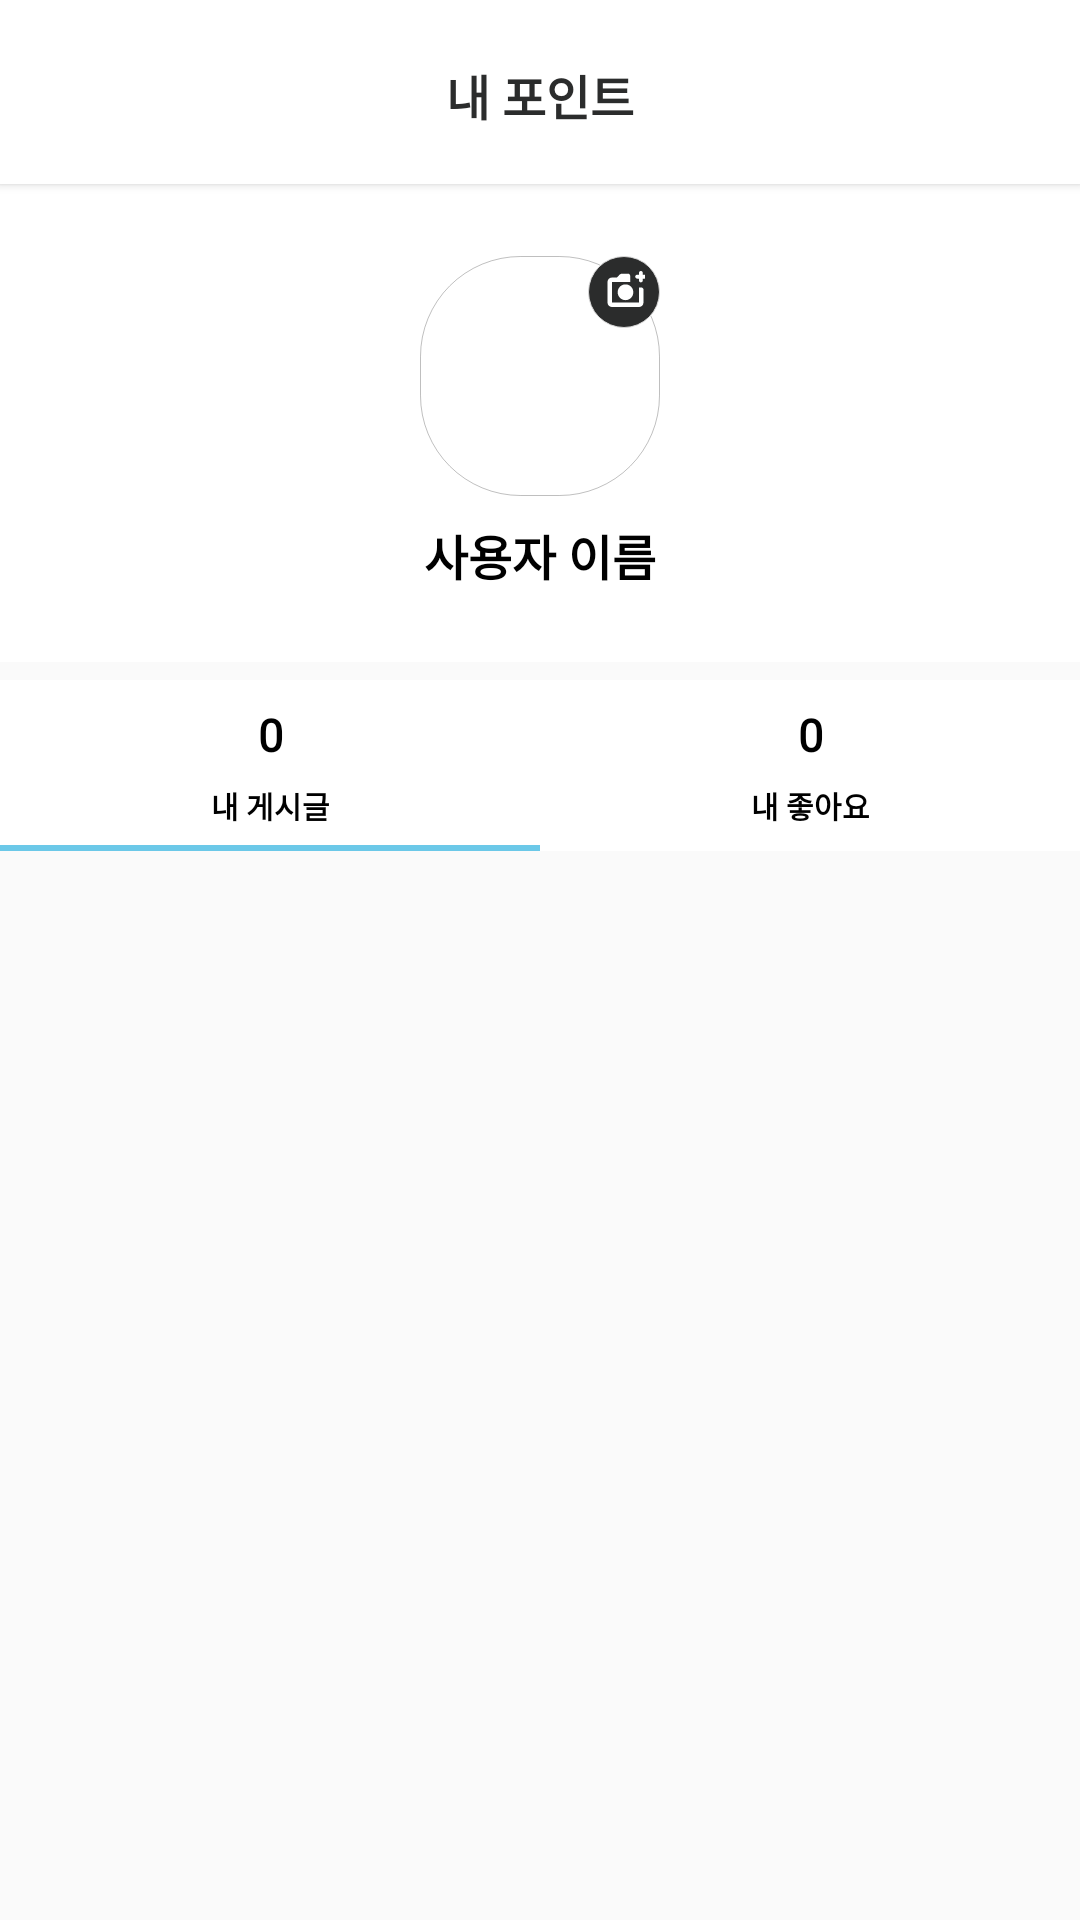

Named icons in this screenshot (1080x1920) and their centers, (x,y):
add photo: (624,292)
